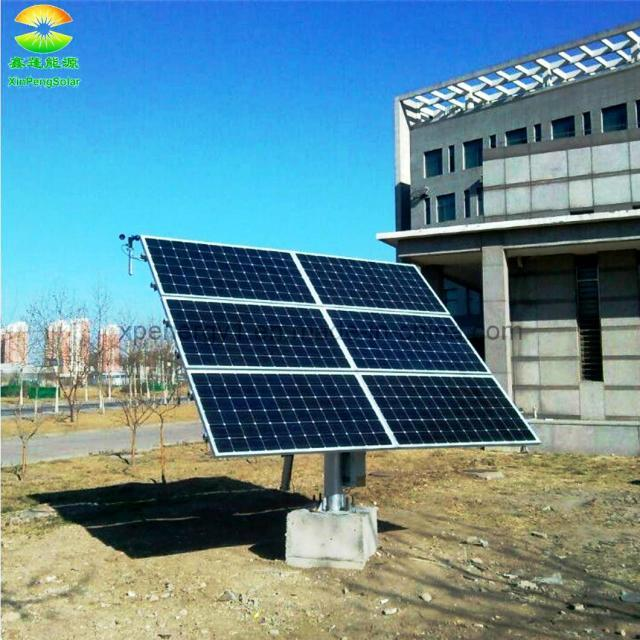no faulty: (186, 366, 392, 462), (364, 368, 540, 449), (330, 298, 494, 376), (142, 235, 321, 306), (166, 309, 353, 373), (304, 256, 454, 310)
